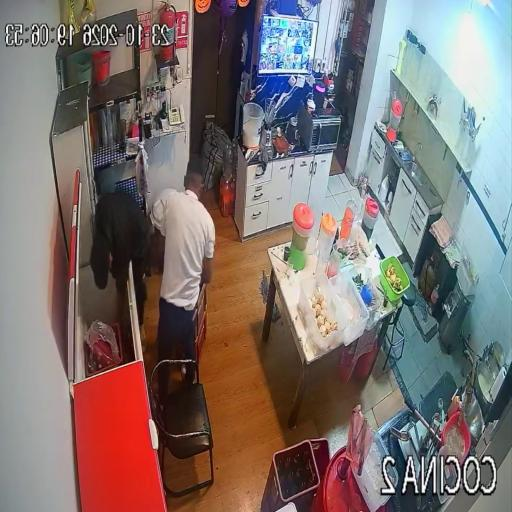Balde: (242, 103, 264, 148)
Envase Llajua: (448, 395, 460, 418)
Jarra1: (362, 197, 379, 238)
Jarra2: (318, 213, 337, 262)
Jarra3: (307, 211, 321, 254)
Jarra4: (289, 203, 314, 270)
Licuadora: (286, 117, 298, 145)
Licuadora2: (261, 98, 274, 154)
Microondas: (298, 105, 341, 151)
Persona1: (91, 191, 150, 329)
Persona3: (157, 160, 215, 363)
Taper: (380, 256, 410, 302)
Taper2: (342, 262, 382, 331)
Taper3: (329, 272, 369, 346)
Taper4: (298, 274, 346, 353)
Taper5: (353, 430, 397, 512)
